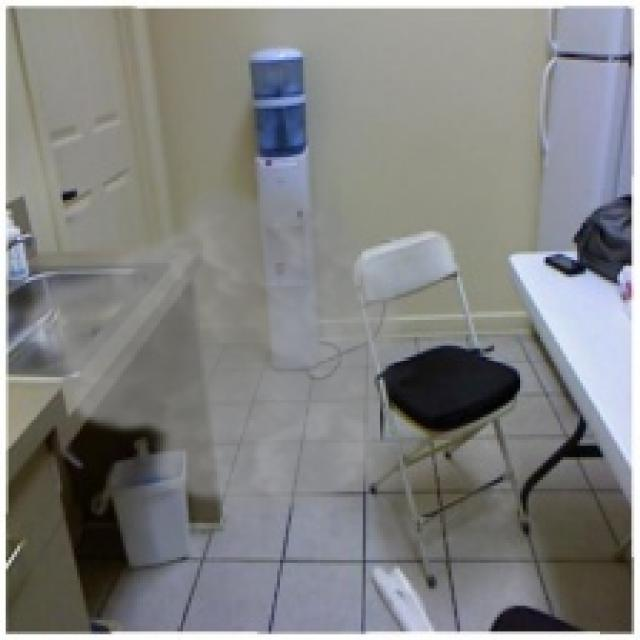smoke: (9, 174, 408, 517)
